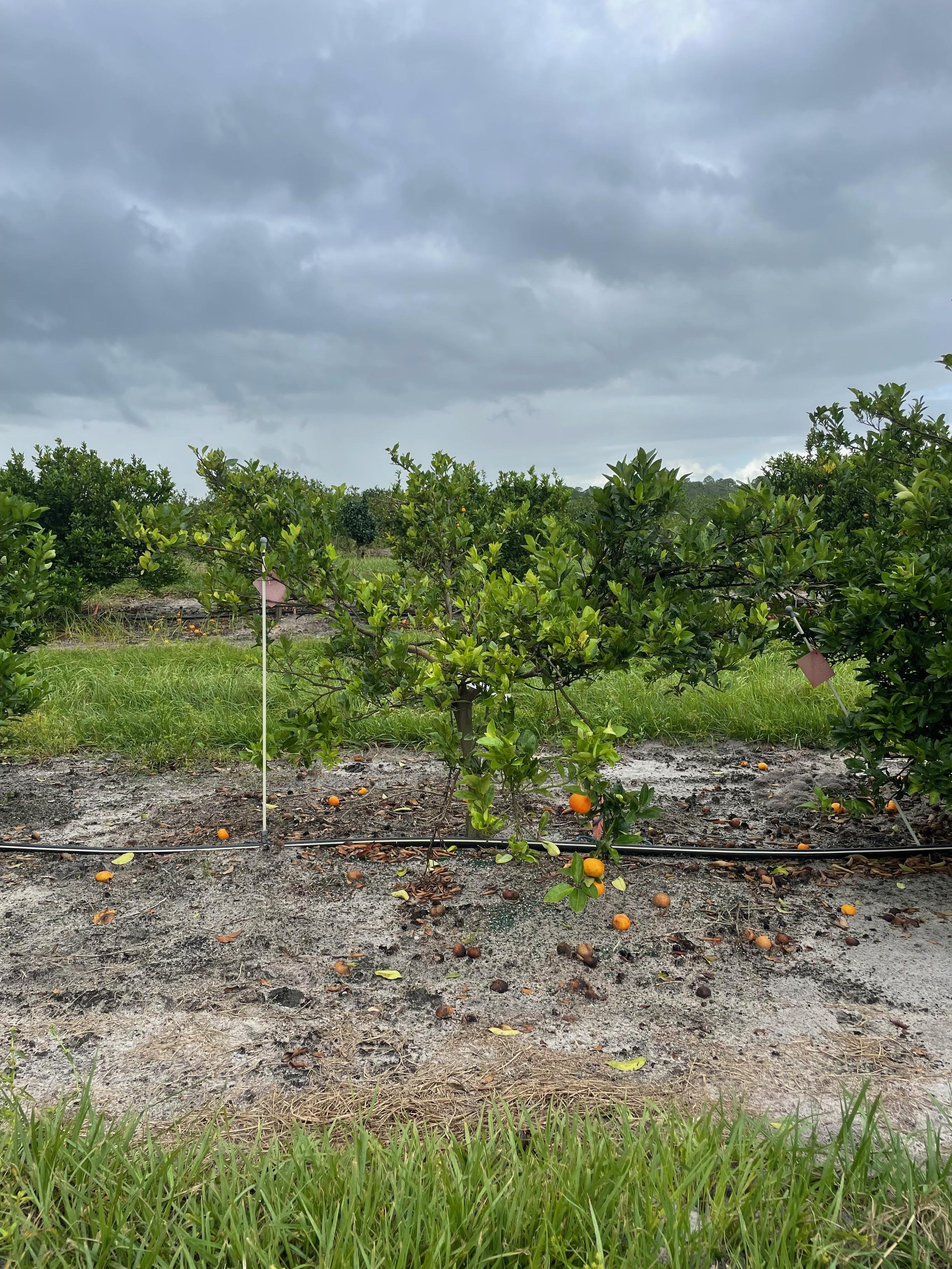fruit_on_ground: (568, 791, 593, 815), (581, 855, 606, 878), (583, 877, 606, 898)
fruit_on_tree: (610, 911, 632, 932), (576, 940, 594, 959), (651, 890, 671, 907), (491, 977, 510, 994), (435, 1002, 454, 1019), (332, 958, 350, 975), (501, 886, 520, 902), (95, 867, 114, 883), (754, 933, 773, 949), (695, 983, 712, 1000), (429, 902, 446, 919), (882, 798, 900, 814), (345, 866, 364, 881), (466, 942, 482, 959), (840, 901, 857, 916), (774, 930, 791, 944), (829, 799, 844, 814), (581, 954, 597, 968), (451, 941, 465, 956), (216, 826, 230, 840), (327, 794, 341, 807), (844, 935, 858, 947), (728, 816, 742, 828), (30, 829, 43, 841), (795, 840, 810, 850), (758, 760, 769, 771), (355, 785, 367, 795), (726, 839, 737, 849), (268, 793, 279, 802), (700, 804, 710, 813), (738, 759, 749, 767)
